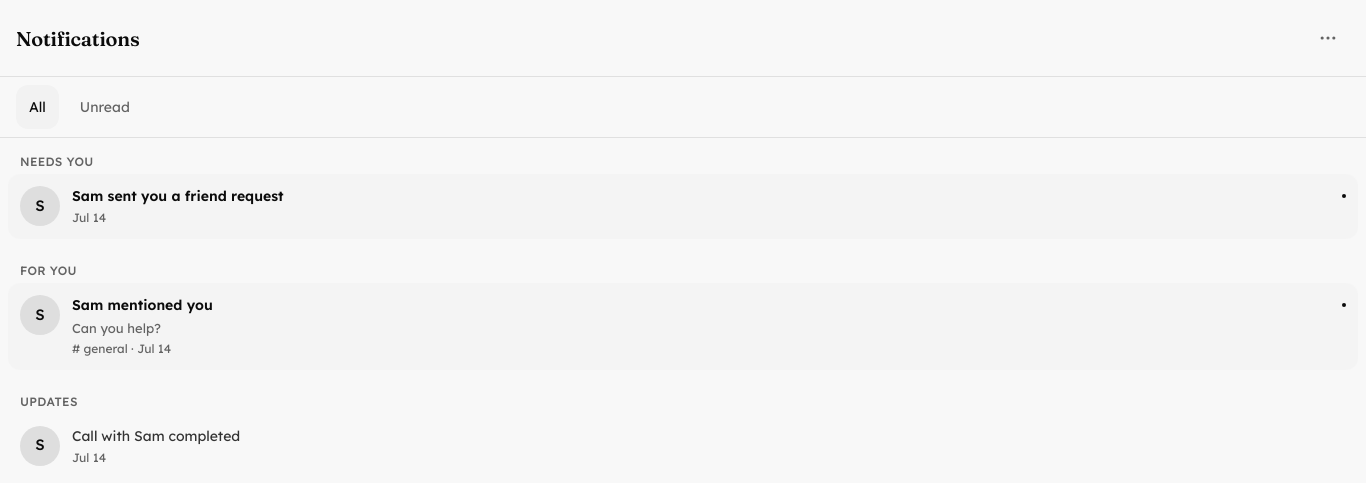
Test: NotificationList › keeps clear context visible beside the exact undo action
Click the button named "Notification actions": (1328, 38) [1306,16,1350,60]
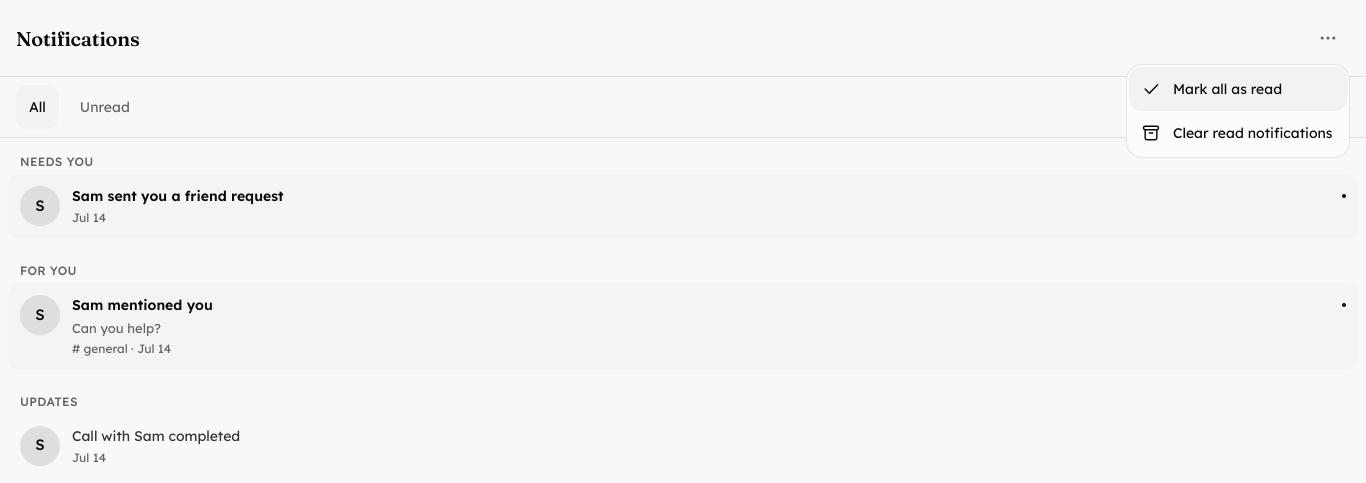
Click the menu item "Clear read notifications": (1237, 133) [1141,123,1333,143]
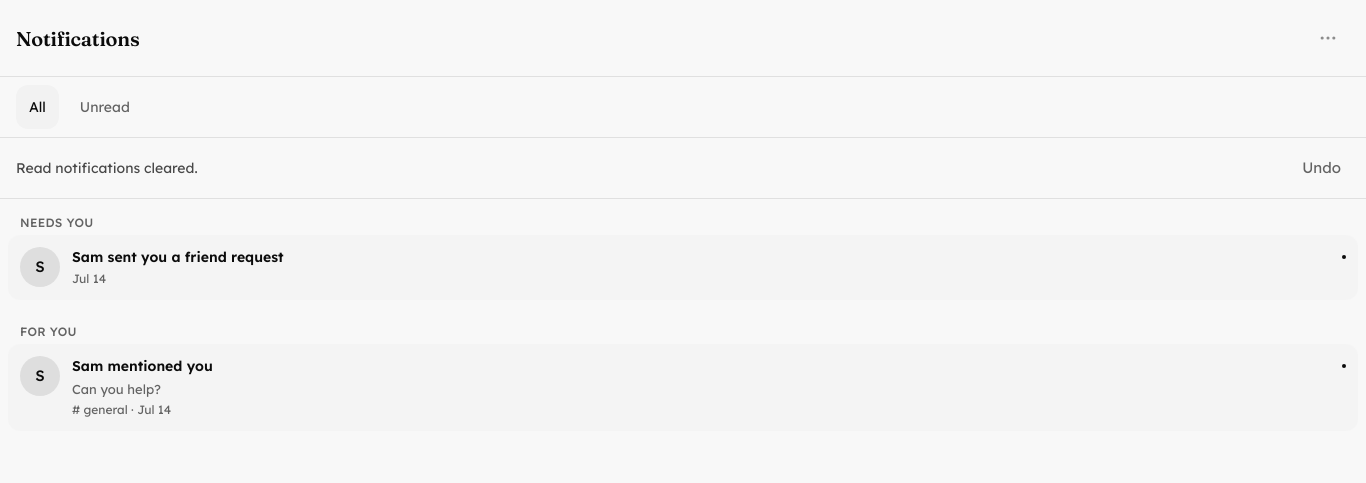
Now the text "Read notifications cleared." is shown, box [16,159,198,177]
Now the button "Undo" is shown, box [1293,146,1350,190]
